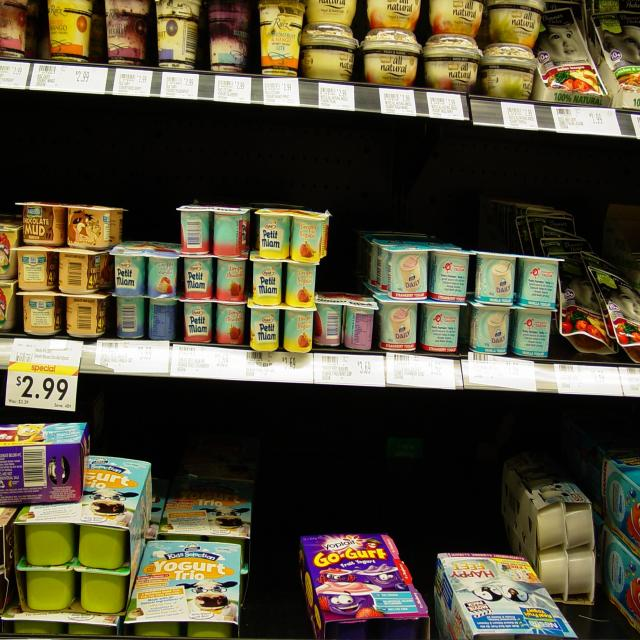empty_space: (7, 118, 365, 202), (272, 414, 492, 504), (368, 123, 464, 233), (254, 516, 298, 632)
